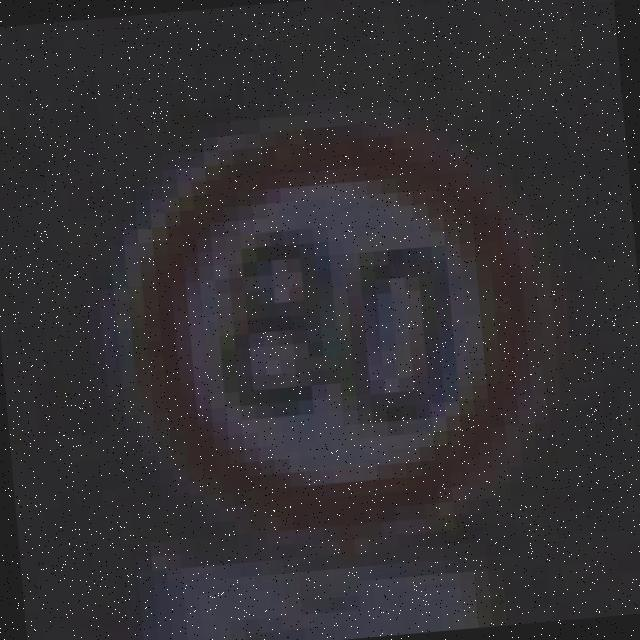Ograniczenie predkosci do 80: (112, 102, 542, 559)
